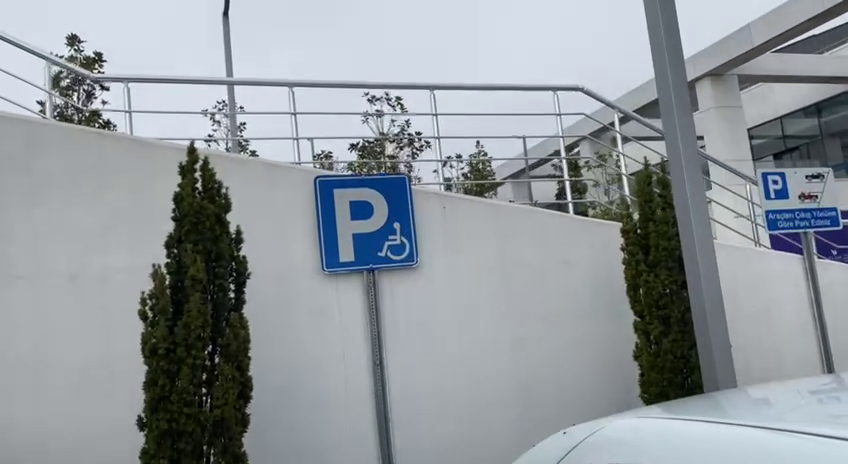parking: (313, 171, 421, 274), (758, 170, 791, 202)
